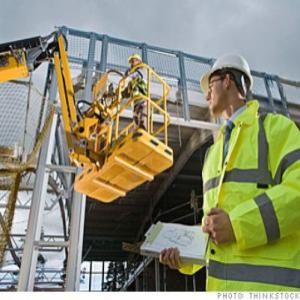white: (203, 53, 254, 119)
